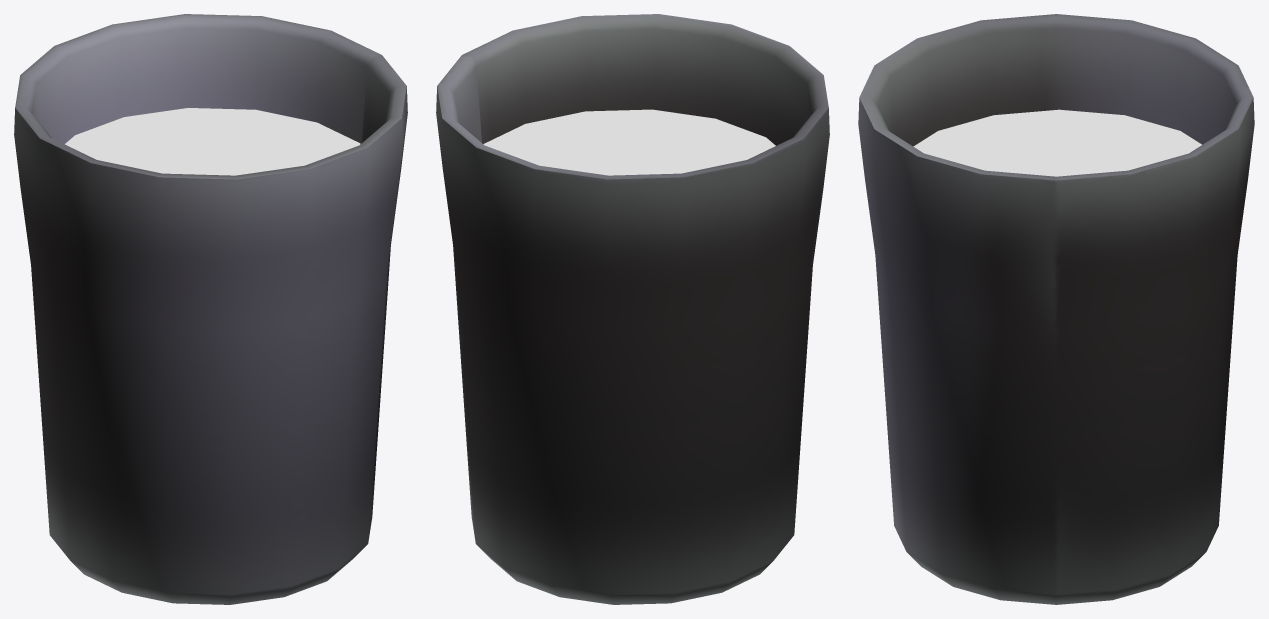
File: Glass.fbx
The picture shows the model from 3 angles, left to right: view 1: azimuth 30°, elevation 25°; view 2: azimuth 150°, elevation 25°; view 3: azimuth 270°, elevation 25°; orthographic projection.
Visible parts, largest first — view 1: glass-of-water, milk-in-glass; view 2: glass-of-water, milk-in-glass; view 3: glass-of-water, milk-in-glass.
Boxes of the visible parts, <box> form: glass-of-water: <box>14,14,407,604</box>; milk-in-glass: <box>65,108,360,175</box>; glass-of-water: <box>436,14,829,604</box>; milk-in-glass: <box>483,109,775,175</box>; glass-of-water: <box>858,14,1254,604</box>; milk-in-glass: <box>913,109,1201,176</box>.
Bounding box in the file's own units: 0.4973 × 0.6173 × 0.4973.
